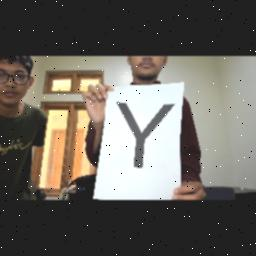y: (114, 96, 178, 172)
